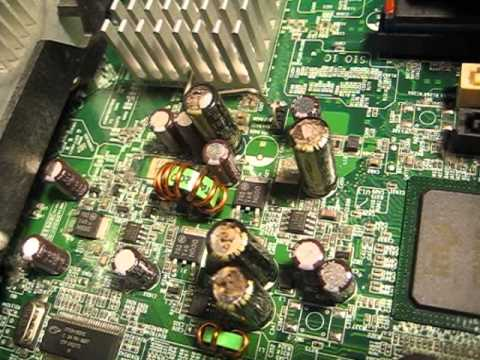capacitor: (202, 220, 286, 280), (288, 116, 341, 203), (182, 86, 245, 147), (96, 238, 160, 294), (42, 155, 94, 208), (18, 234, 74, 278), (292, 240, 320, 264), (323, 263, 350, 285)
